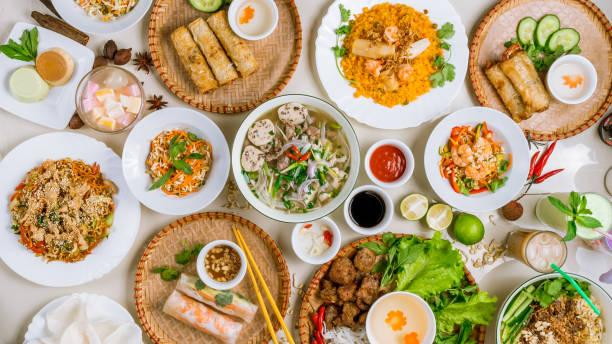Braised Crucian Carp: (0, 129, 139, 286), (133, 211, 287, 343), (468, 0, 610, 143), (314, 0, 466, 131), (300, 230, 475, 342), (146, 0, 305, 118), (232, 92, 354, 222), (121, 107, 228, 214), (423, 107, 529, 213)
